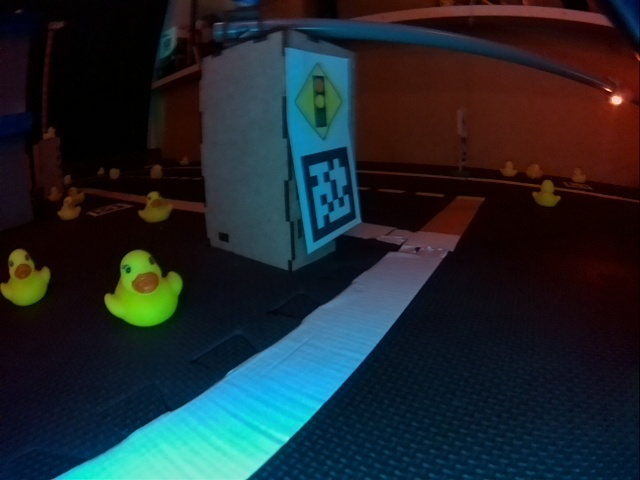Duckie: (104, 251, 182, 327), (1, 249, 50, 304), (139, 193, 171, 222), (534, 181, 560, 206), (57, 198, 81, 220), (150, 165, 162, 178), (49, 187, 59, 200)
QR code: (301, 145, 358, 244)
Signal sign: (294, 64, 342, 140)
